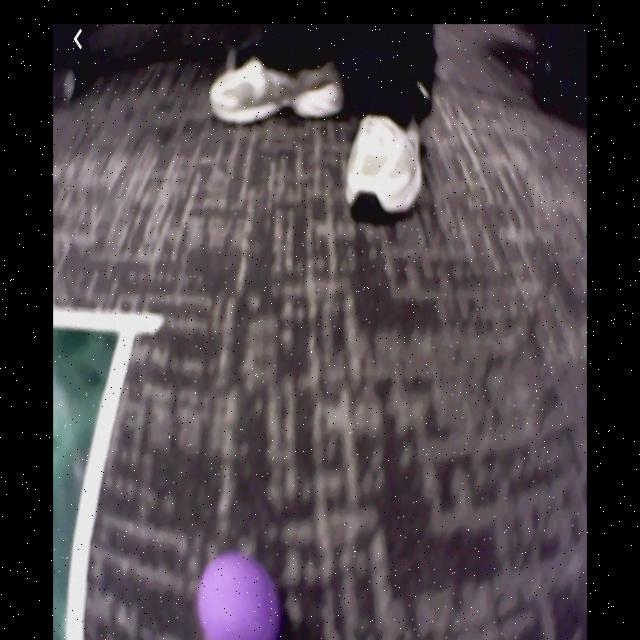ball: (197, 553, 282, 640)
